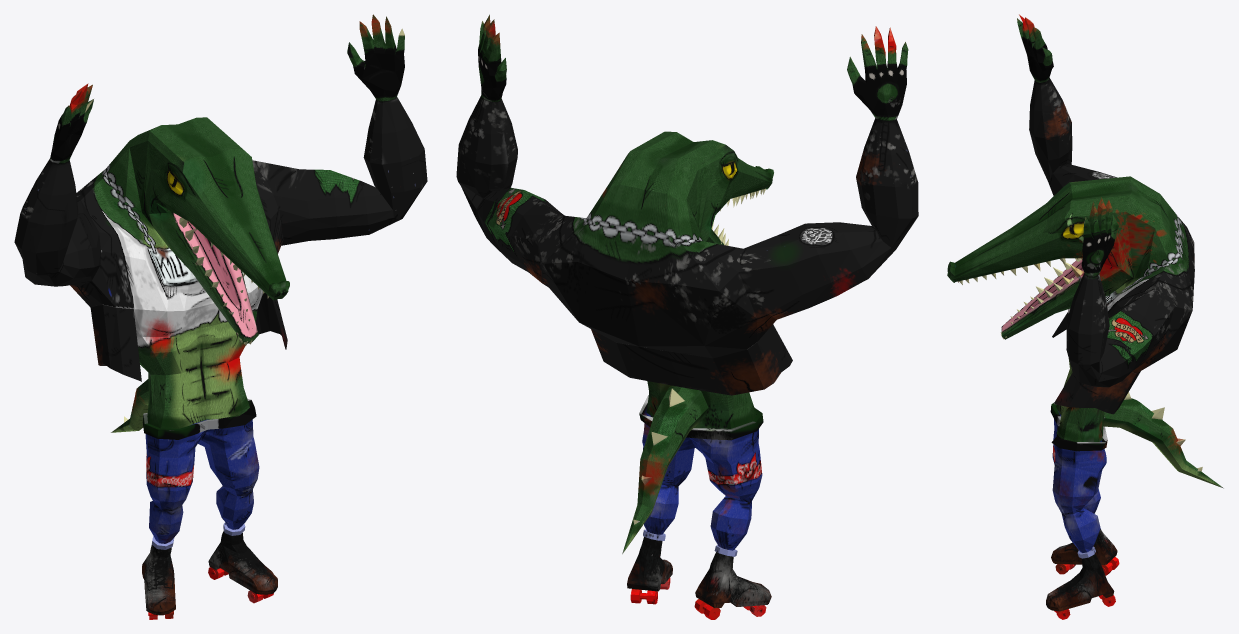
The model's file is cocodrilaBonesSelect_000031.obj.
3 renders of one model, left to right at view 1: azimuth 30°, elevation 25°; view 2: azimuth 150°, elevation 25°; view 3: azimuth 270°, elevation 25°, orthographic. The views are drawn at different scales.
Parts seen in each view (by area): view 1: Crocodile.002_Cylinder.002; view 2: Crocodile.002_Cylinder.002; view 3: Crocodile.002_Cylinder.002.
Part boxes in pixels (bbox=[...]): Crocodile.002_Cylinder.002: bbox=[14, 14, 427, 619]; Crocodile.002_Cylinder.002: bbox=[456, 14, 918, 619]; Crocodile.002_Cylinder.002: bbox=[947, 14, 1223, 619].
Bounding box in the file's own units: 6.31 × 8.2 × 4.01.
